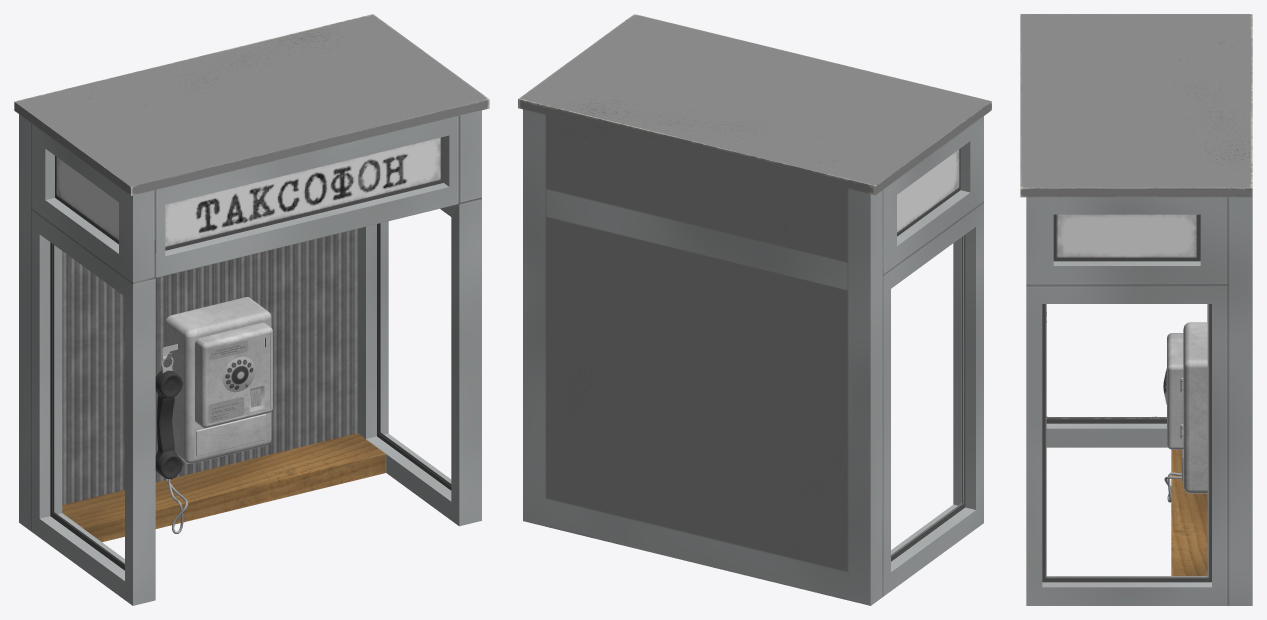
Rendered from Payphone.fbx.
3 renders of one model, left to right at view 1: azimuth 30°, elevation 25°; view 2: azimuth 150°, elevation 25°; view 3: azimuth 270°, elevation 25°, orthographic.
Parts seen in each view (by area): view 1: taksofon; view 2: taksofon; view 3: taksofon.
Part boxes in pixels (x1,y1,x2,y2): taksofon: (14,14,489,605); taksofon: (518,14,991,605); taksofon: (1020,14,1252,605).
Size of the model in its own units: 124 by 142 by 69.62.
1 material, 1 textured.
